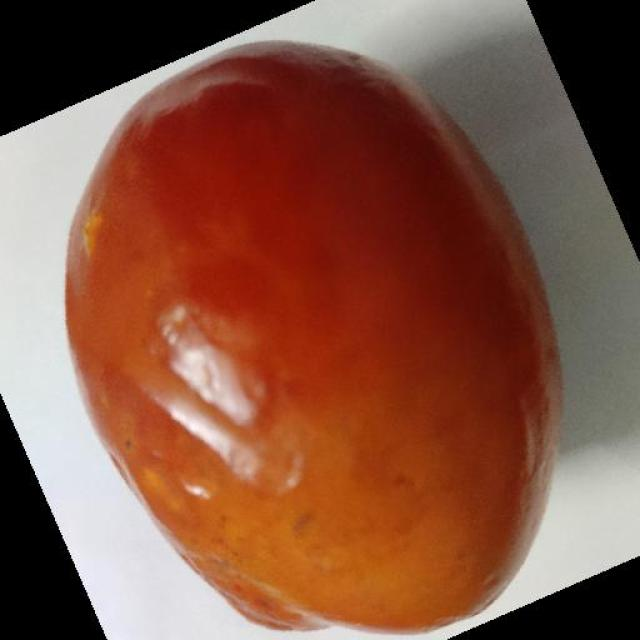Stale_tomato: (113, 84, 528, 623)
